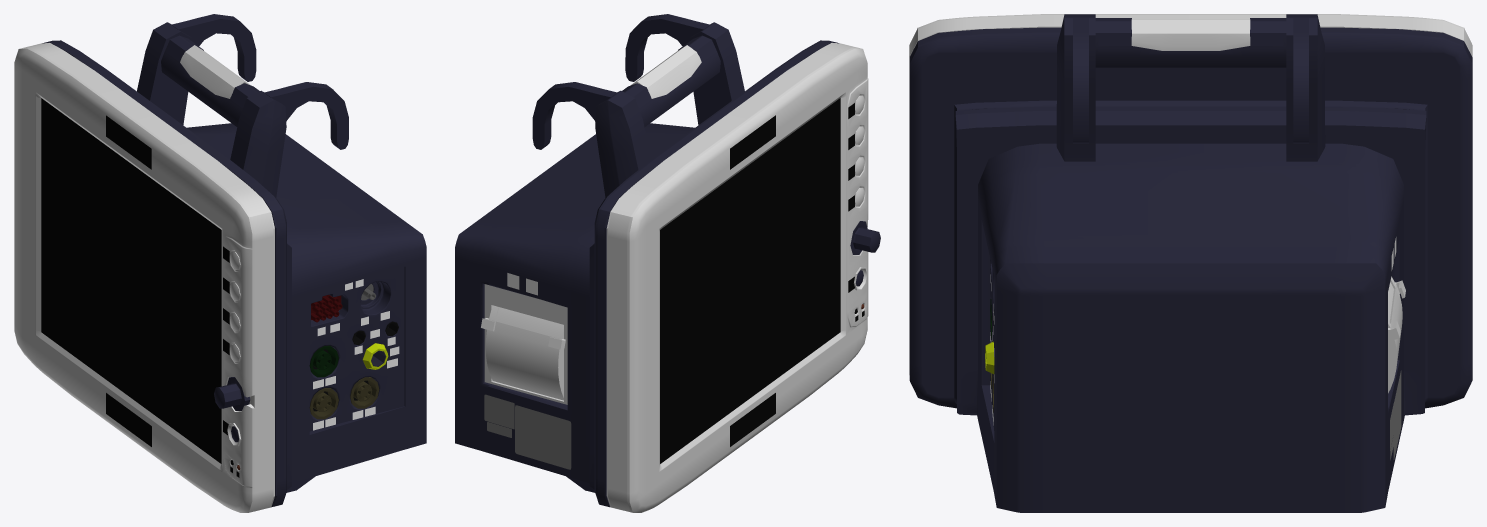
Rendered from Patien Monitor BM 5.FBX.
The picture shows the model from 3 angles, left to right: view 1: azimuth 30°, elevation 25°; view 2: azimuth 150°, elevation 25°; view 3: azimuth 270°, elevation 25°; orthographic projection. The views are drawn at different scales.
Visible parts, largest first — view 1: Object112, Plane001; view 2: Object112, Plane001, Object113; view 3: Object112, Object113, Plane001.
Part boxes in pixels (x1,y1,x2,y2): Object112: (14,14,426,512); Plane001: (106,115,399,477); Object112: (455,14,880,512); Plane001: (484,103,864,469); Object113: (481,305,565,400); Object112: (909,14,1472,512); Object113: (1388,276,1405,393); Plane001: (990,237,1401,460).
Bounding box in the file's own units: 456 × 662 × 775.
